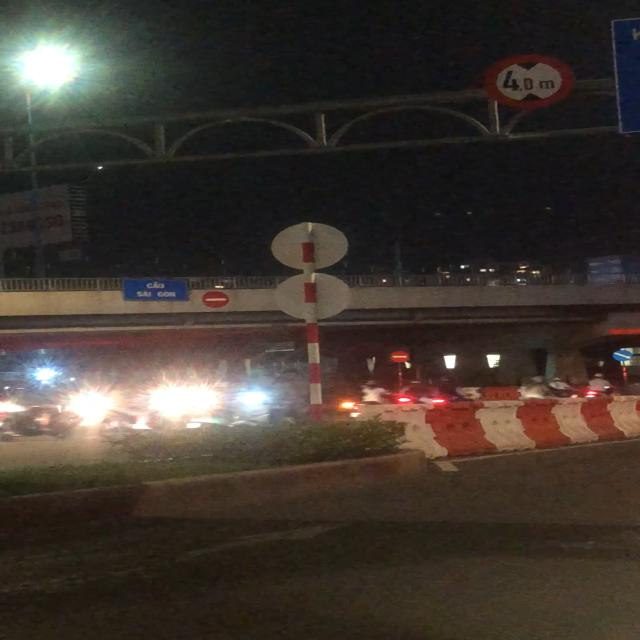Bien bao cam di nguoc chieu: (199, 290, 232, 308), (388, 350, 411, 363)
Bien bao huong phai di vong chuong ngai vat: (612, 348, 635, 363)
